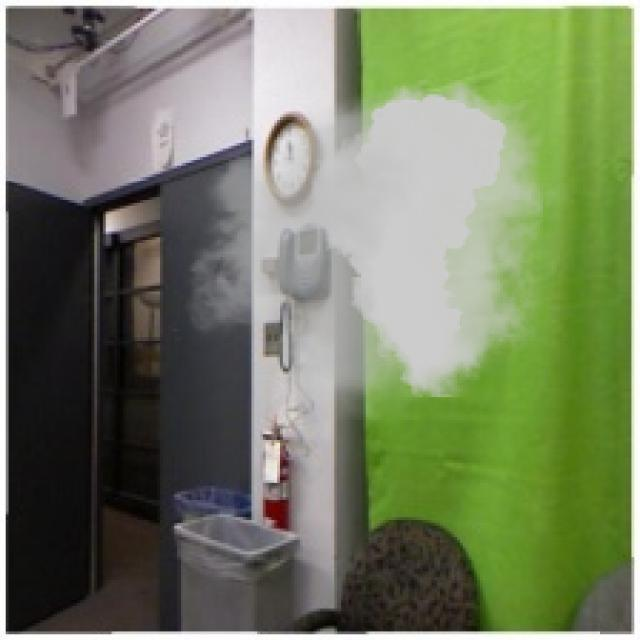Smoke: (166, 71, 574, 420)
